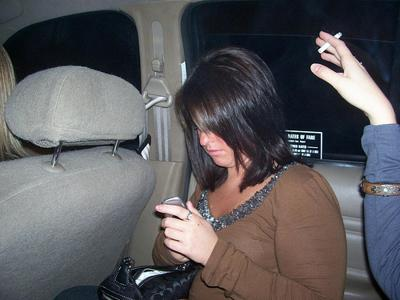person: (51, 49, 347, 300)
